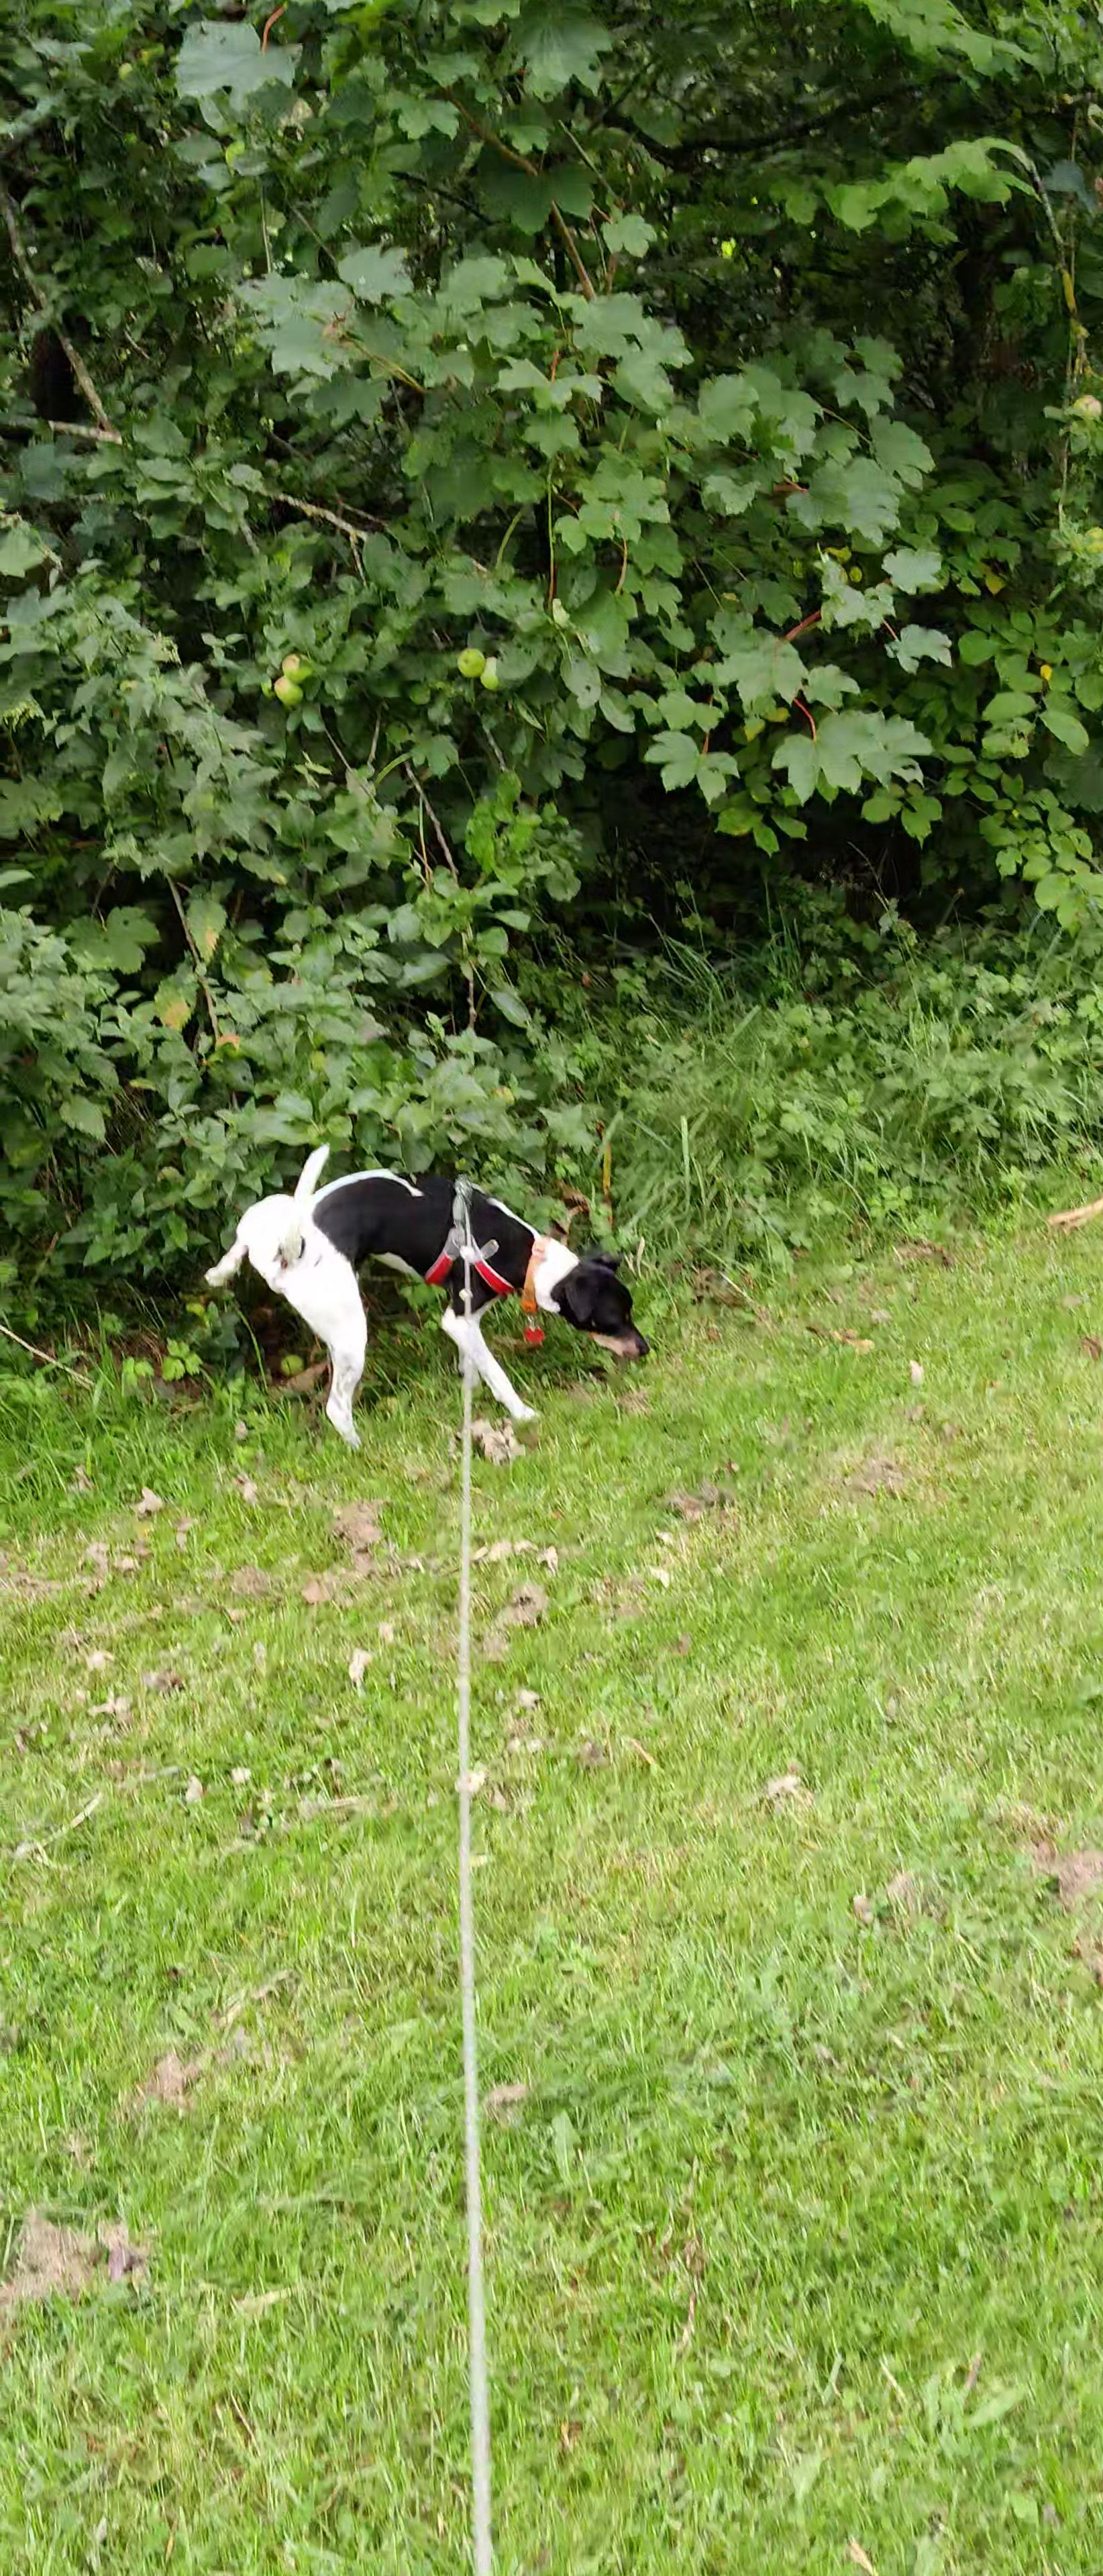Dog: (201, 1138, 654, 1456)
